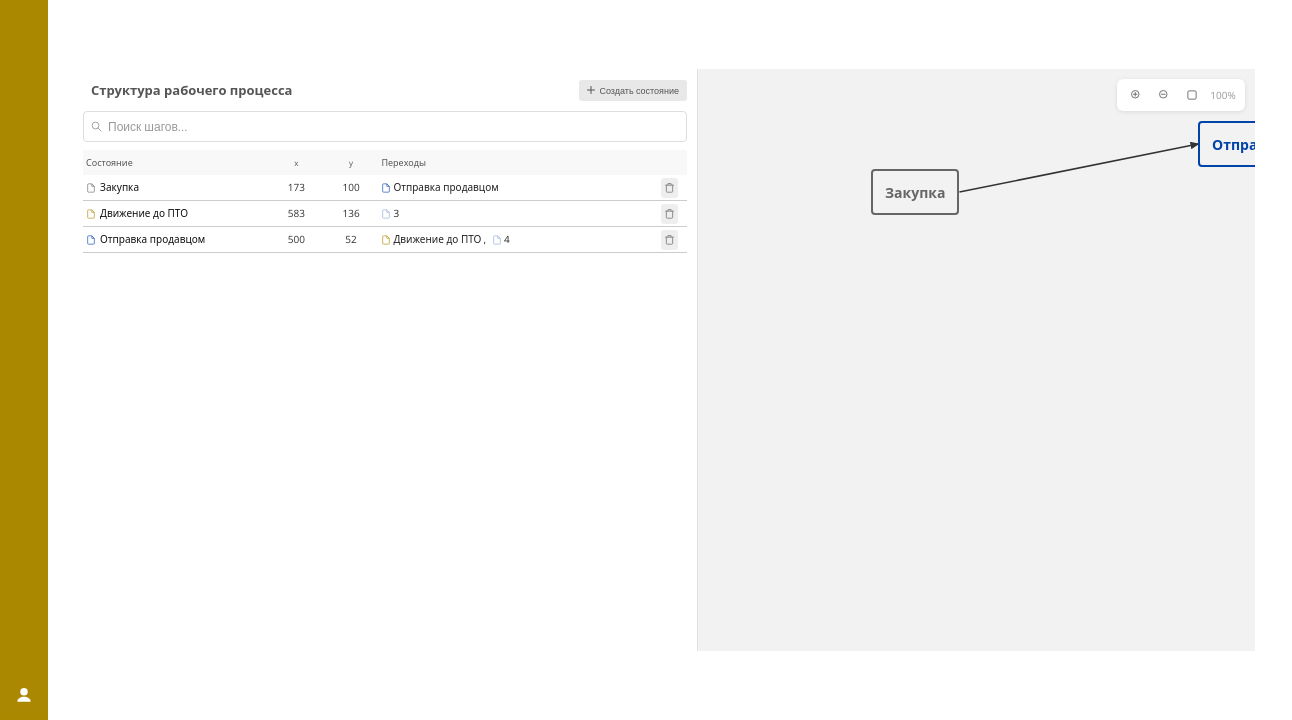
Workflow Editor E2E Tests › should zoom in
Click the 1st button with class "tool-btn".
click(1136, 95)  # box [1123,82,1149,108]
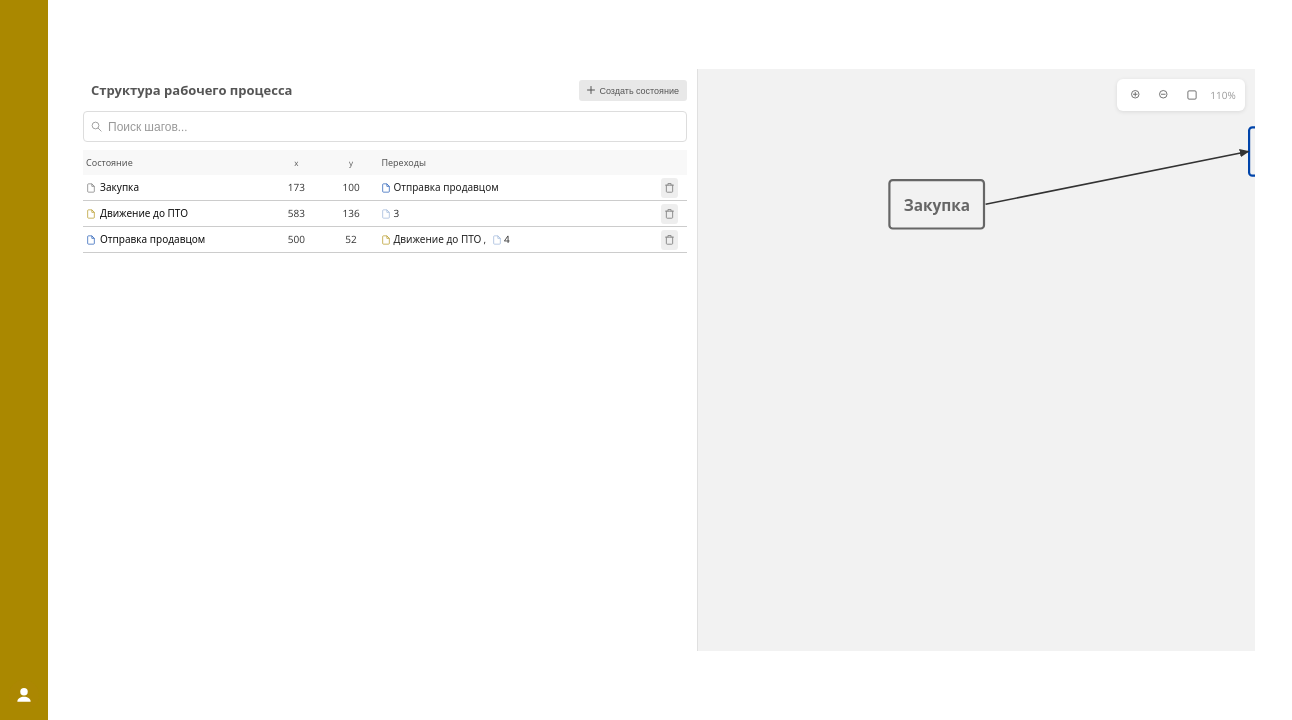
Check: the text with class "zoom-label" no longer shows "100%"
